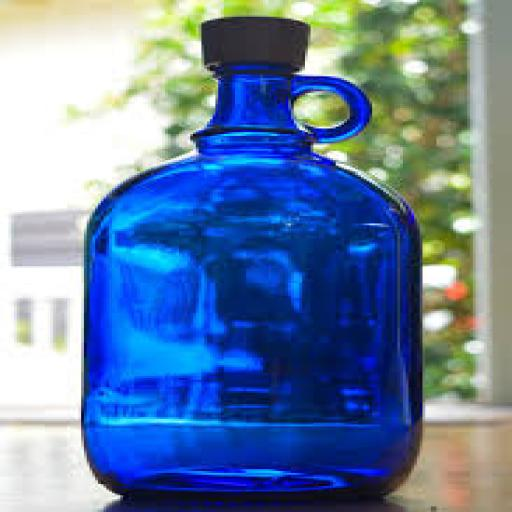blue-bottle: (81, 17, 420, 499)
